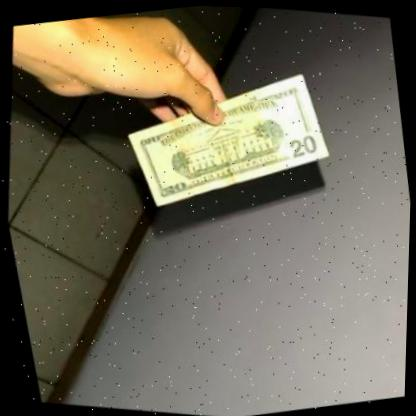twenty-back: (93, 28, 360, 253)
